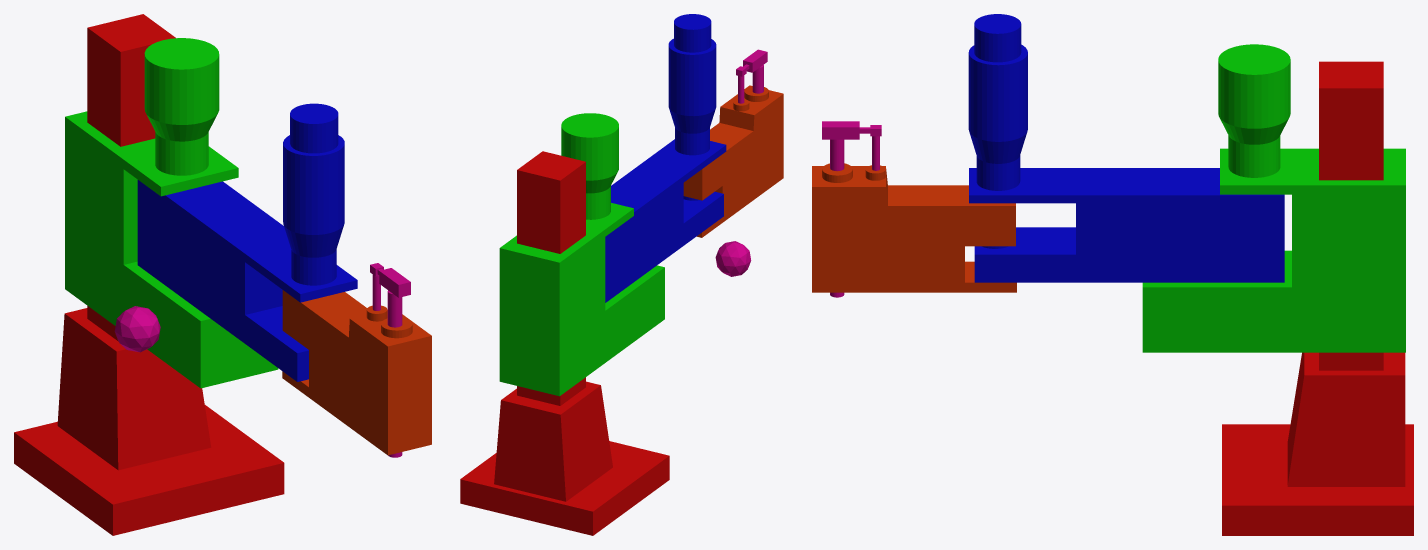
The model's file is light.obj.
3 views of the same model, side by side, from view 1: azimuth 30°, elevation 25°; view 2: azimuth 150°, elevation 25°; view 3: azimuth 270°, elevation 25° (orthographic). The views are drawn at different scales.
Parts seen in each view (by area): view 1: base, vertical_big, hotizontal_on_start, horizontal_on_end, vertical_mini, light_pos; view 2: base, vertical_big, hotizontal_on_start, horizontal_on_end, light_pos, vertical_mini; view 3: vertical_big, hotizontal_on_start, base, horizontal_on_end, vertical_mini.
Boxes of the visible parts, x1,y1,x2,y2 form: base: [14, 14, 284, 535]; vertical_big: [65, 38, 278, 388]; hotizontal_on_start: [137, 103, 357, 381]; horizontal_on_end: [282, 290, 431, 455]; vertical_mini: [370, 263, 410, 457]; light_pos: [114, 306, 160, 352]; base: [460, 151, 669, 535]; vertical_big: [499, 113, 664, 396]; hotizontal_on_start: [605, 14, 726, 302]; horizontal_on_end: [683, 85, 783, 237]; light_pos: [715, 241, 751, 276]; vertical_mini: [736, 49, 767, 103]; vertical_big: [1142, 44, 1405, 352]; hotizontal_on_start: [968, 14, 1284, 282]; base: [1222, 61, 1413, 535]; horizontal_on_end: [812, 163, 1016, 292]; vertical_mini: [822, 121, 881, 297].
Size of the model in its own units: 2.16 by 4.56 by 5.27.
